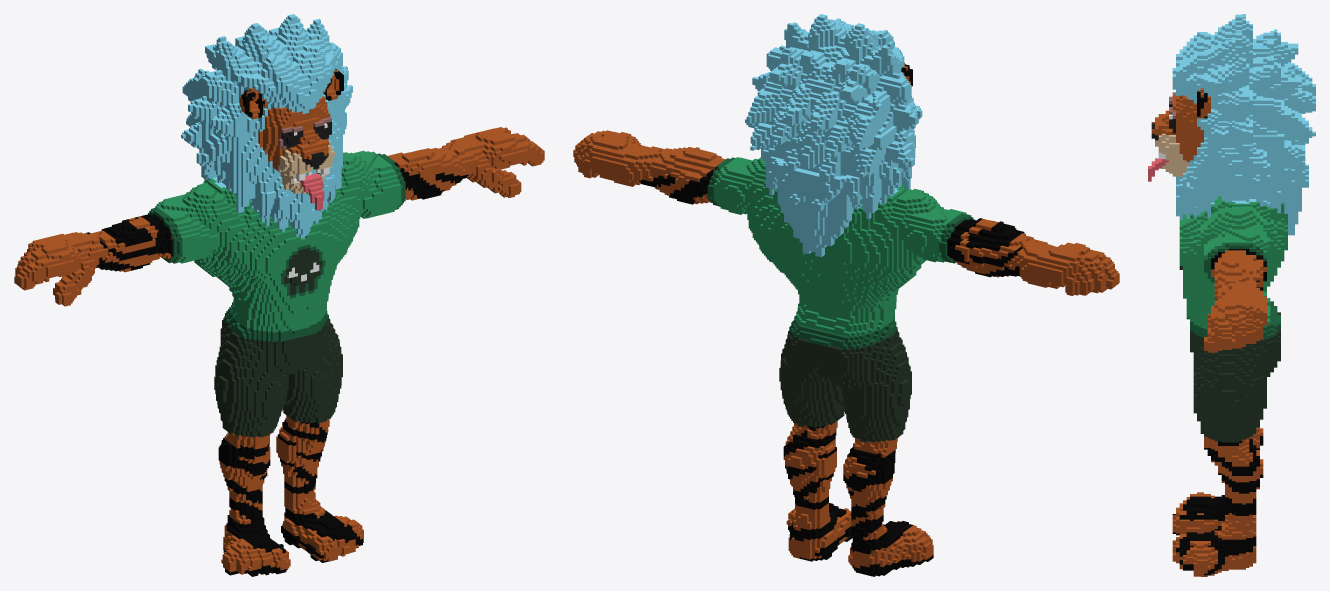
Rendered from 1070-DhDaidsl.glb.
3 views of the same model, side by side, from view 1: azimuth 30°, elevation 25°; view 2: azimuth 150°, elevation 25°; view 3: azimuth 270°, elevation 25° (orthographic). The views are drawn at different scales.
Visible parts, largest first — view 1: tongue_out; view 2: tongue_out; view 3: tongue_out.
Boxes of the visible parts, x1,y1,x2,y2 form: tongue_out: [14, 14, 544, 576]; tongue_out: [573, 14, 1119, 576]; tongue_out: [1148, 14, 1315, 576].
Bounding box in the file's own units: 17.2 × 16.5 × 4.8.
5 materials, 5 textured.
